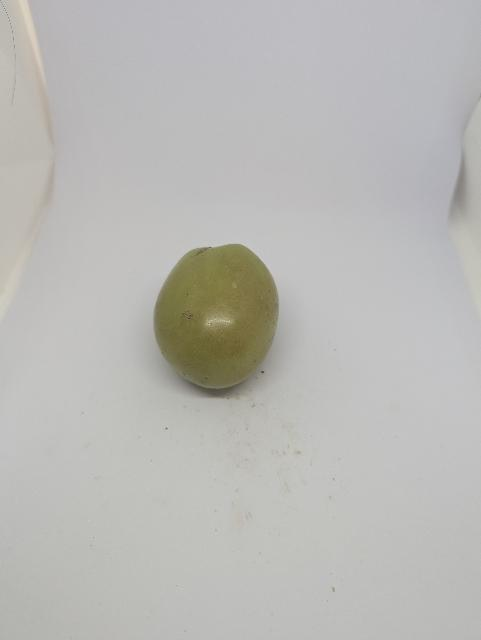green: (146, 229, 293, 420)
